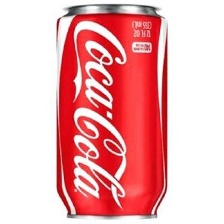can: (53, 3, 171, 224)
